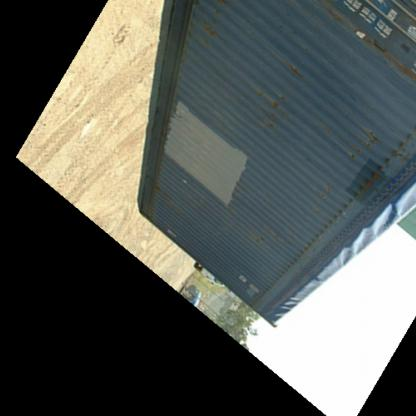Damage: (338, 119, 382, 171), (262, 85, 290, 151), (202, 4, 232, 50), (149, 176, 175, 209), (246, 226, 278, 252), (279, 53, 305, 80)
